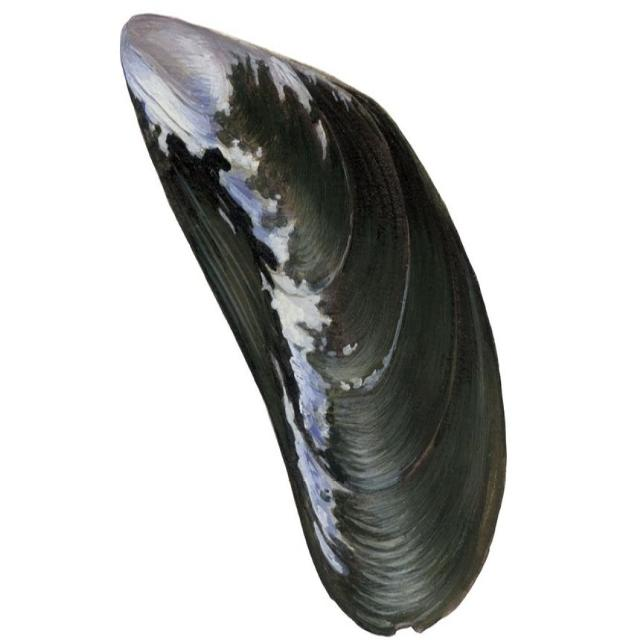Mytilus_galloprovincialis: (120, 14, 504, 637)
